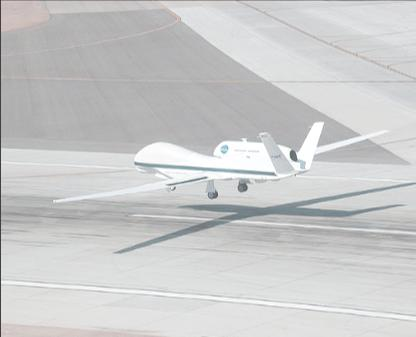P3: (49, 121, 389, 202)
